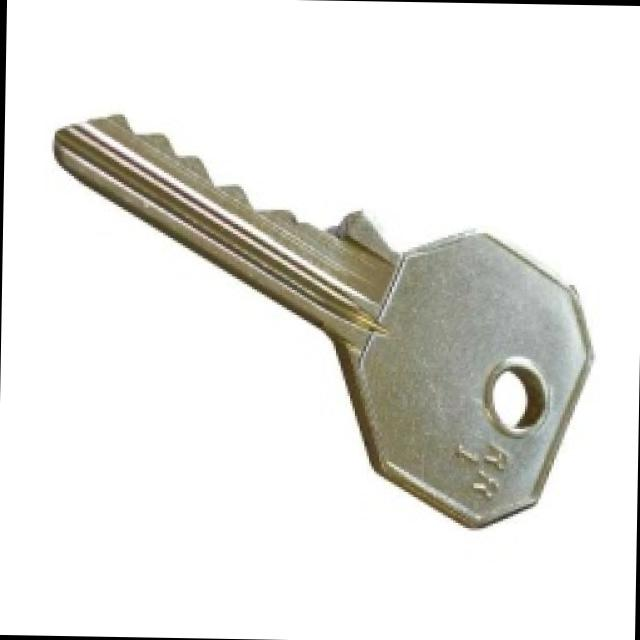anahtar: (40, 107, 610, 539)
